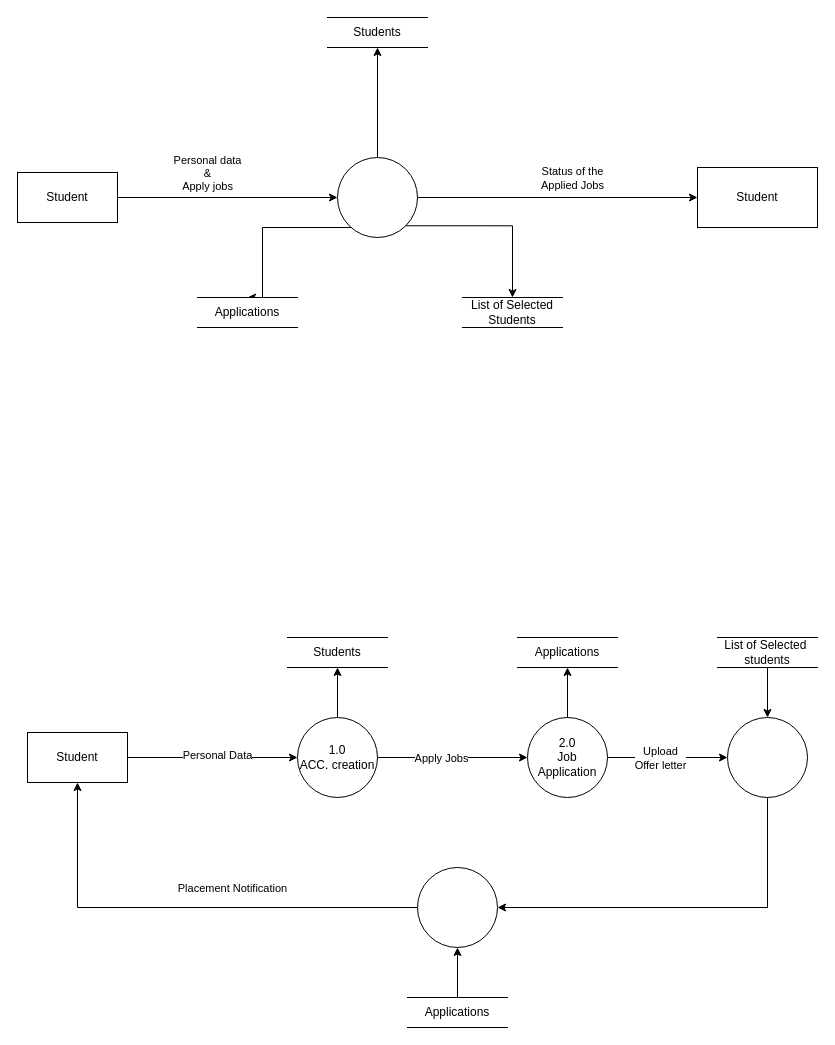
Image size: 835x1045. Some labels were removed from this diagram. Here are the shapes that lost their labels. From the top down, the centre of each, then its label:
At (x=377, y=197): "0.0 PMS".
At (x=767, y=757): "3.0 Co-ordinator approval".
At (x=457, y=907): "4.0 View Result".
